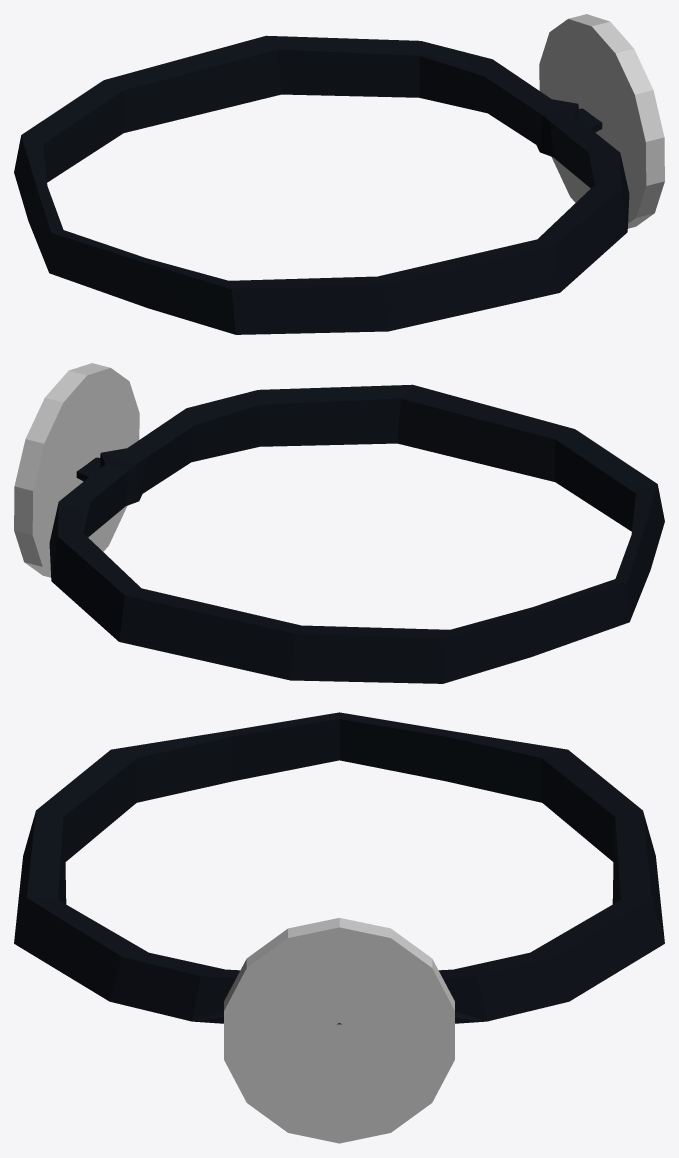
File: FOREHEAD MIRROR.fbx
The picture shows the model from 3 angles, top to bottom: view 1: azimuth 30°, elevation 25°; view 2: azimuth 150°, elevation 25°; view 3: azimuth 270°, elevation 25°; orthographic projection. The views are drawn at different scales.
Parts seen in each view (by area): view 1: FOREHEAD_MIRROR; view 2: FOREHEAD_MIRROR; view 3: FOREHEAD_MIRROR.
Boxes of the visible parts, x1,y1,x2,y2 form: FOREHEAD_MIRROR: (14,14,664,334); FOREHEAD_MIRROR: (14,363,664,683); FOREHEAD_MIRROR: (14,712,664,1143).
Bounding box in the file's own units: 26.88 × 9.04 × 24.77.
